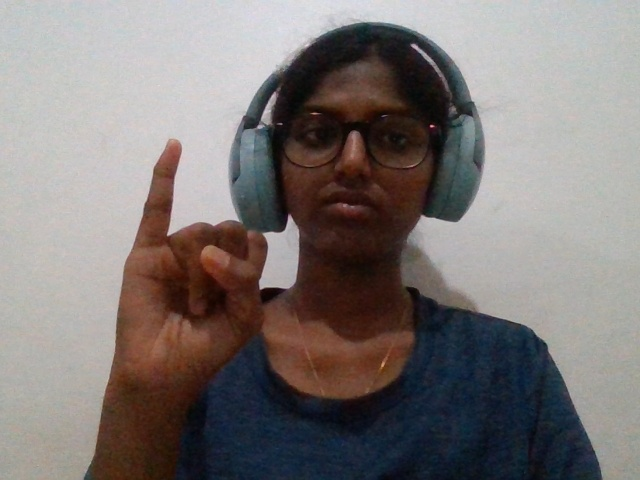I: (97, 127, 282, 431)
